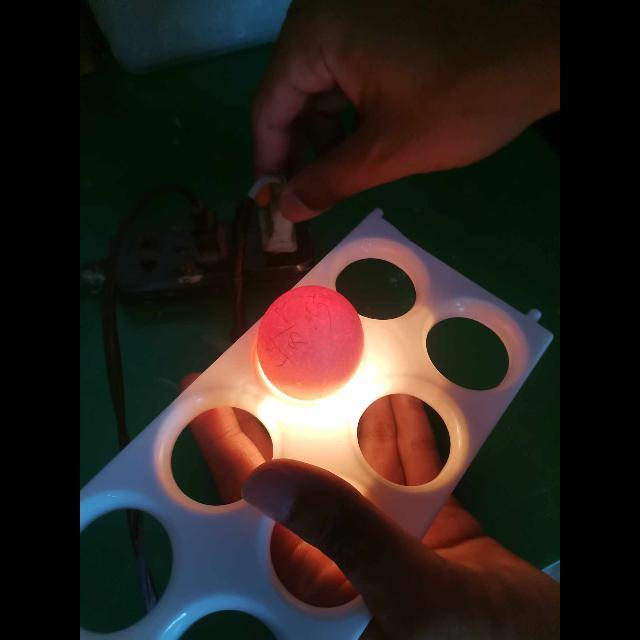Infertile: (260, 286, 364, 396)
